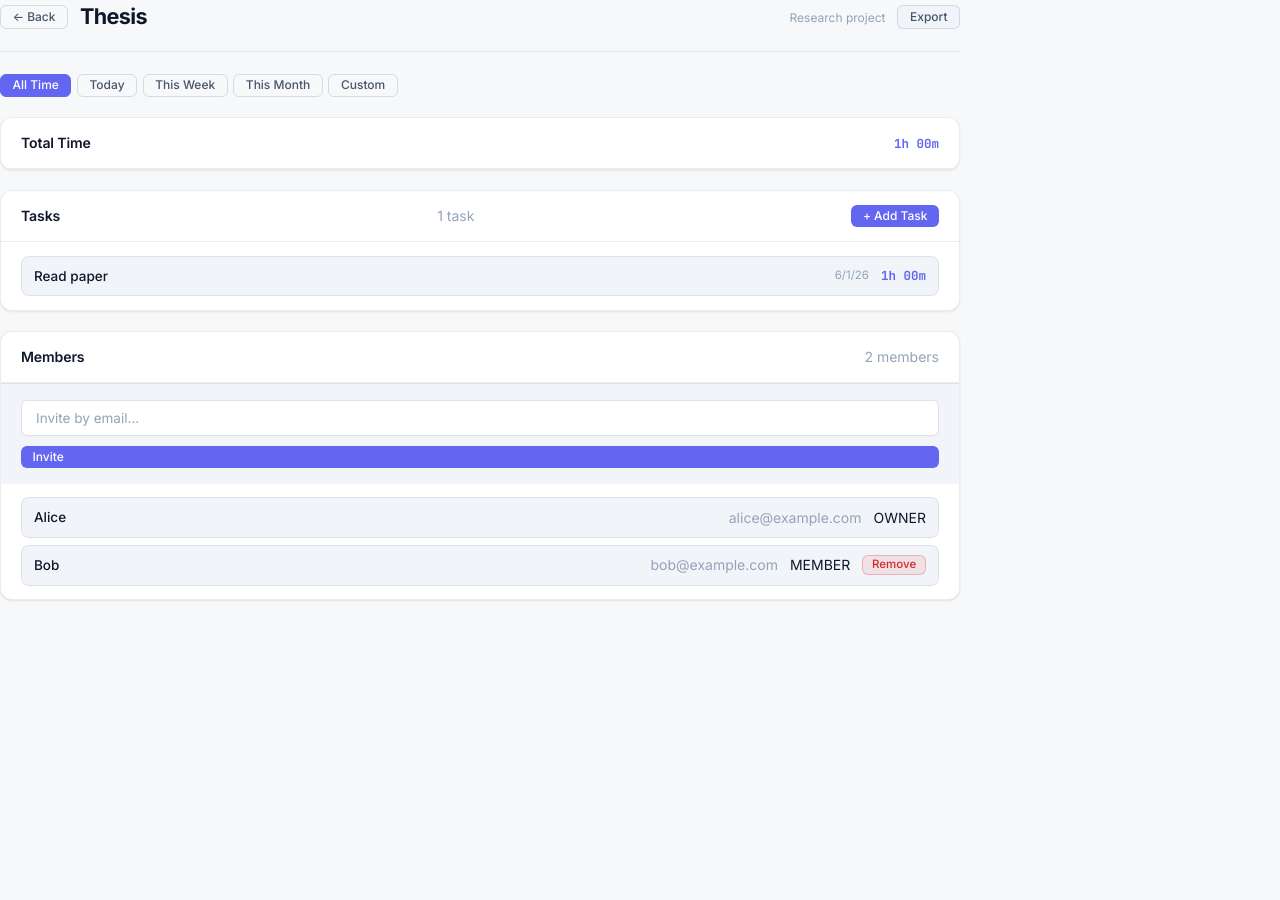
Test: ProjectDetailPage › shows year and month inputs only when Specific Month scope is selected
Click the button with test id "export-btn" at (929, 17), box [898,5,960,28]
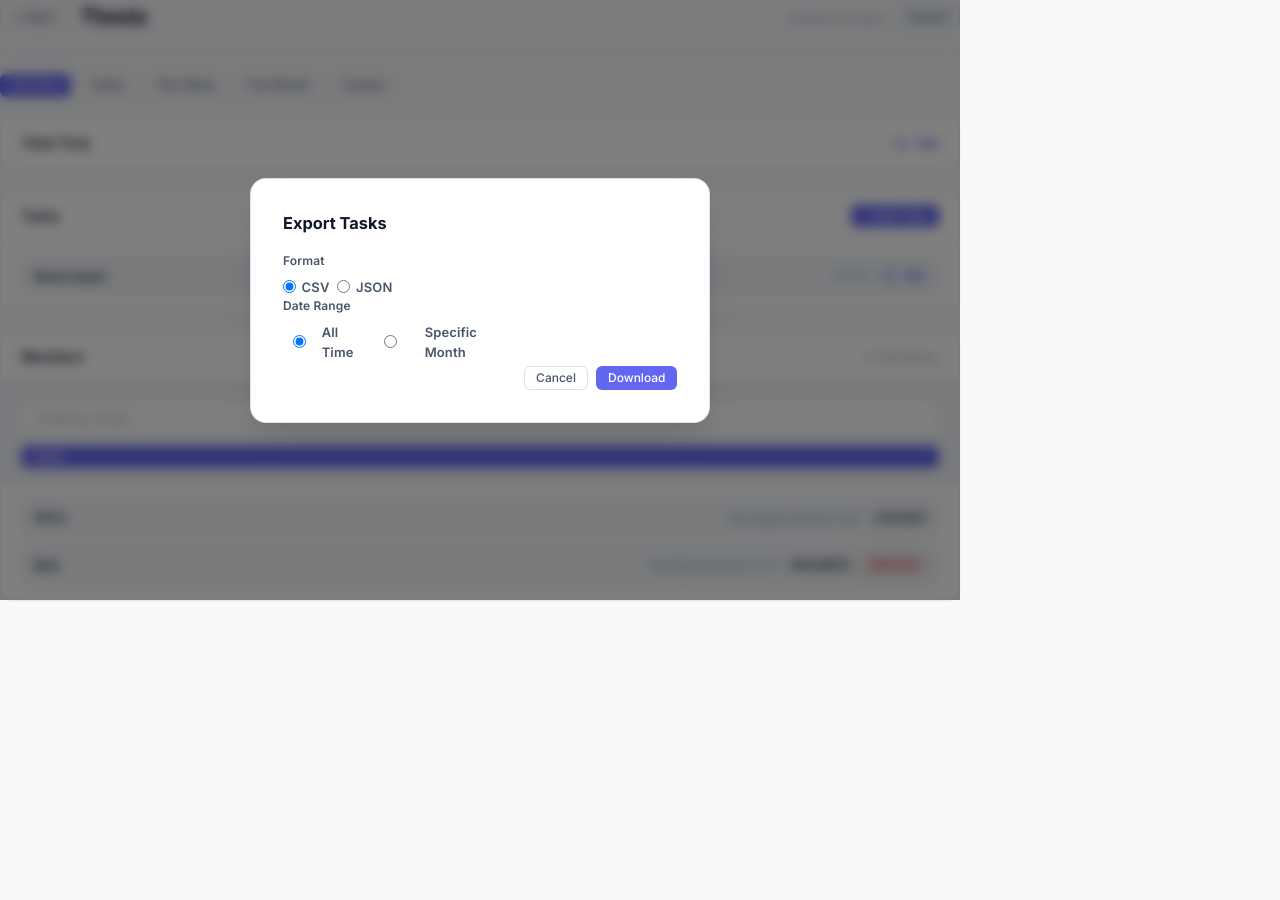
Select Specific Month
Click the radio button with test id "export-scope-month" at (390, 342), box [362,335,419,348]
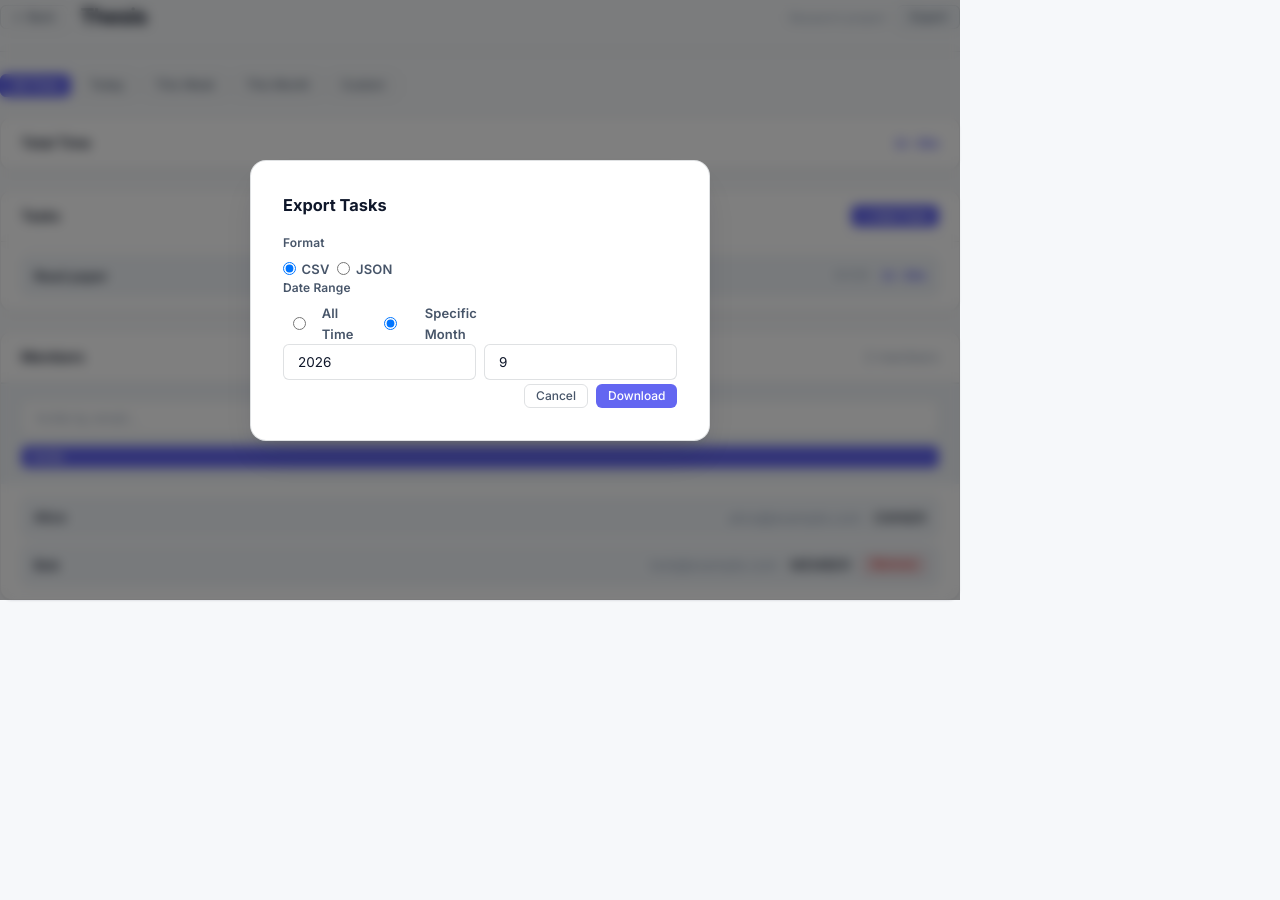
Check: the number field with test id "export-year-input" is shown, box [283,344,476,380]
Check: the number field with test id "export-month-input" is shown, box [484,344,677,380]
